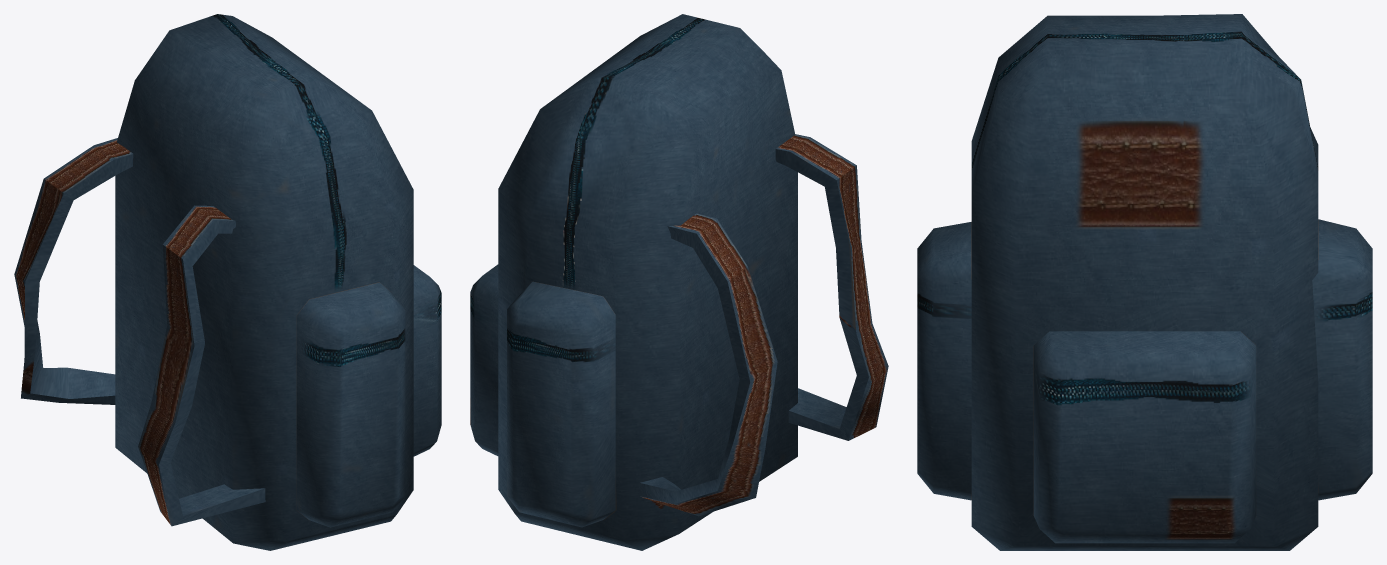
File: backpack.glb
3 renders of one model, left to right at view 1: azimuth 30°, elevation 25°; view 2: azimuth 150°, elevation 25°; view 3: azimuth 270°, elevation 25°, orthographic. The views are drawn at different scales.
Parts seen in each view (by area): view 1: Backpack.001; view 2: Backpack.001; view 3: Backpack.001.
Boxes of the visible parts, x1=… form: Backpack.001: x1=14, y1=14, x2=441, y2=550; Backpack.001: x1=470, y1=14, x2=888, y2=550; Backpack.001: x1=917, y1=14, x2=1372, y2=550.
Bounding box in the file's own units: 0.6083 × 0.7996 × 0.6822.
1 material, 1 textured.
